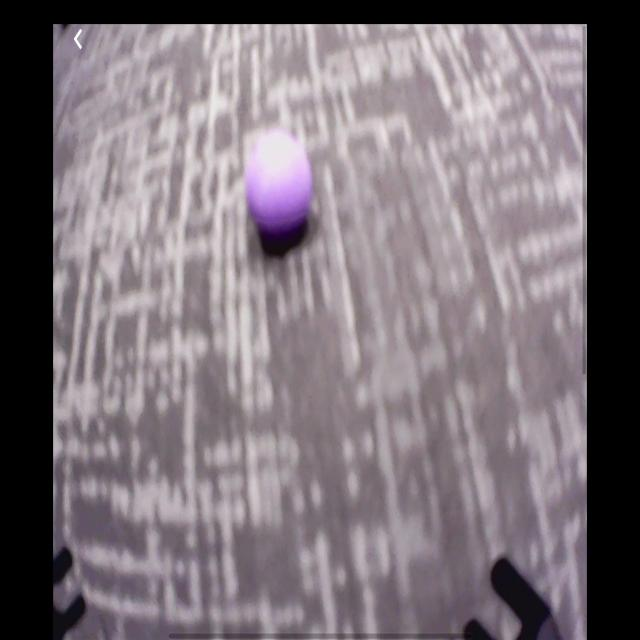ball: (249, 135, 313, 237)
